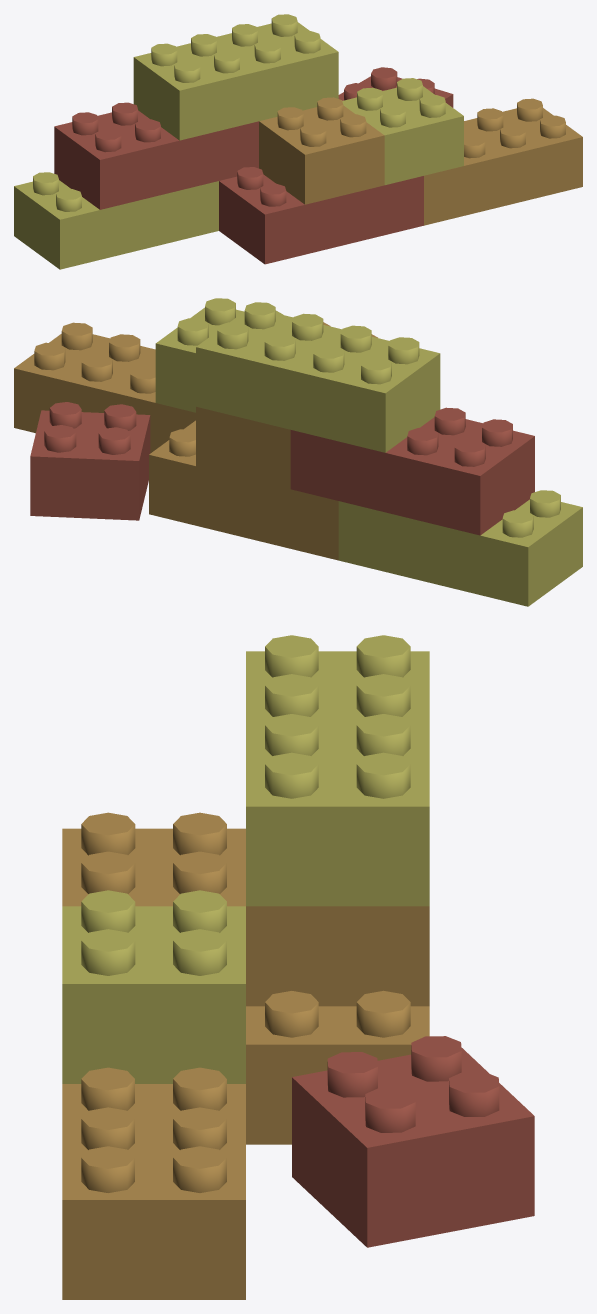
The model's file is bloque_lego_3.fbx.
3 views of the same model, one above another, from view 1: azimuth 30°, elevation 25°; view 2: azimuth 150°, elevation 25°; view 3: azimuth 270°, elevation 25° (orthographic). The views are drawn at different scales.
Parts seen in each view (by area): view 1: piezaModelo.007, piezaModelo.006, piezaModelo.001, piezaModelo.004, piezaModelo.003, piezaModelo.005, piezaModeloPeq.001, Cilindros2.007, Cilindros2.008, Cilindros2.009, Cilindros2.004, Cilindros2.006 (+5 smaller); view 2: piezaModelo.007, piezaModelo.006, piezaModelo.004, piezaModelo.002, piezaModeloPeq.002, piezaModelo.003, piezaModelo.005, Cilindros2.009, Cilindros2.008, Cilindros2.006, Cilindros.003, piezaModeloPeq.001 (+5 smaller); view 3: piezaModelo.007, piezaModeloPeq.002, piezaModelo.003, piezaModeloPeq.001, piezaModelo.005, piezaModelo.002, Cilindros2.005, Cilindros2.004, Cilindros2.009, Cilindros2.006, Cilindros.003, Cilindros2.007 (+2 smaller).
Part boxes in pixels (bbox=[...]): piezaModelo.007: bbox=[133, 22, 338, 140]; piezaModelo.006: bbox=[54, 110, 258, 209]; piezaModelo.001: bbox=[219, 174, 423, 264]; piezaModelo.004: bbox=[14, 180, 218, 269]; piezaModelo.003: bbox=[424, 108, 582, 225]; piezaModelo.005: bbox=[259, 105, 384, 204]; piezaModeloPeq.001: bbox=[342, 86, 463, 184]; Cilindros2.007: bbox=[277, 97, 366, 146]; Cilindros2.008: bbox=[72, 102, 160, 152]; Cilindros2.009: bbox=[477, 98, 565, 148]; Cilindros2.004: bbox=[357, 78, 445, 127]; Cilindros2.006: bbox=[232, 14, 320, 63]; piezaModelo.007: bbox=[196, 311, 440, 452]; piezaModelo.006: bbox=[290, 417, 534, 535]; piezaModelo.004: bbox=[338, 499, 582, 606]; piezaModelo.002: bbox=[149, 420, 338, 560]; piezaModeloPeq.002: bbox=[30, 410, 150, 520]; piezaModelo.003: bbox=[14, 334, 195, 453]; piezaModelo.005: bbox=[196, 406, 290, 489]; Cilindros2.009: bbox=[34, 322, 140, 381]; Cilindros2.008: bbox=[407, 407, 512, 466]; Cilindros2.006: bbox=[217, 302, 323, 360]; Cilindros.003: bbox=[313, 325, 419, 384]; piezaModeloPeq.001: bbox=[155, 307, 243, 412]; piezaModelo.007: bbox=[246, 651, 429, 906]; piezaModeloPeq.002: bbox=[292, 1047, 534, 1247]; piezaModelo.003: bbox=[62, 1084, 245, 1299]; piezaModeloPeq.001: bbox=[62, 906, 245, 1083]; piezaModelo.005: bbox=[62, 828, 429, 1006]; piezaModelo.002: bbox=[246, 1006, 429, 1144]; Cilindros2.005: bbox=[327, 1036, 499, 1132]; Cilindros2.004: bbox=[81, 890, 226, 975]; Cilindros2.009: bbox=[81, 1107, 226, 1192]; Cilindros2.006: bbox=[265, 714, 410, 798]; Cilindros.003: bbox=[265, 635, 410, 716]; Cilindros2.007: bbox=[81, 812, 226, 893].
Size of the model in its own units: 450 by 193 by 146.
